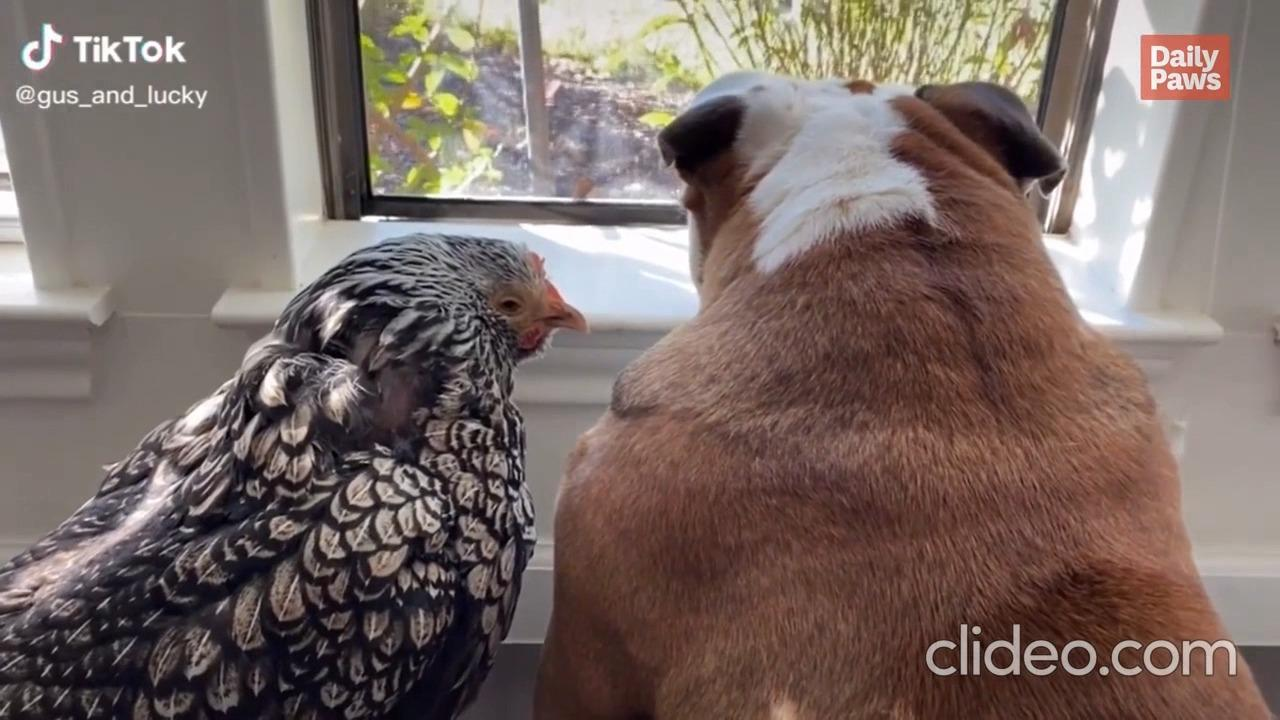Normal: (105, 233, 553, 605)
